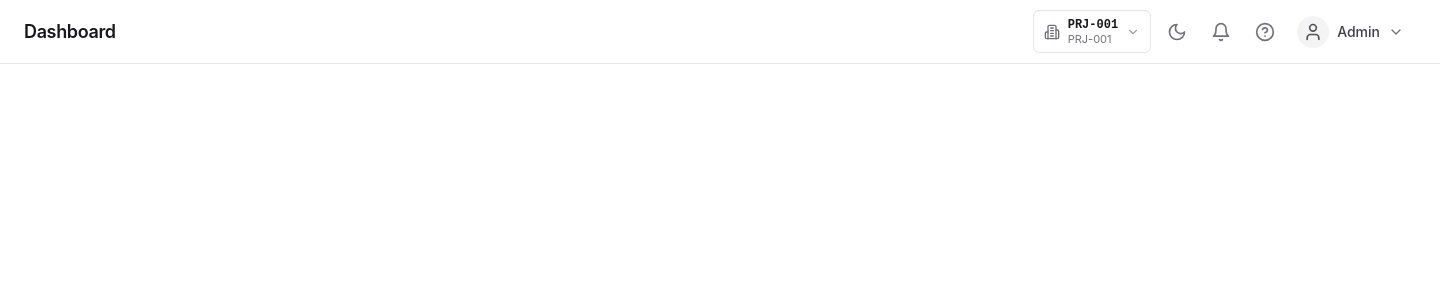
Test case: notification bell › shows an honest empty state
This screenshot has width=1440, height=287.
Click the button with test id "notifications-bell". click: coordinates (1221, 32)
box: [1203,14,1239,50]
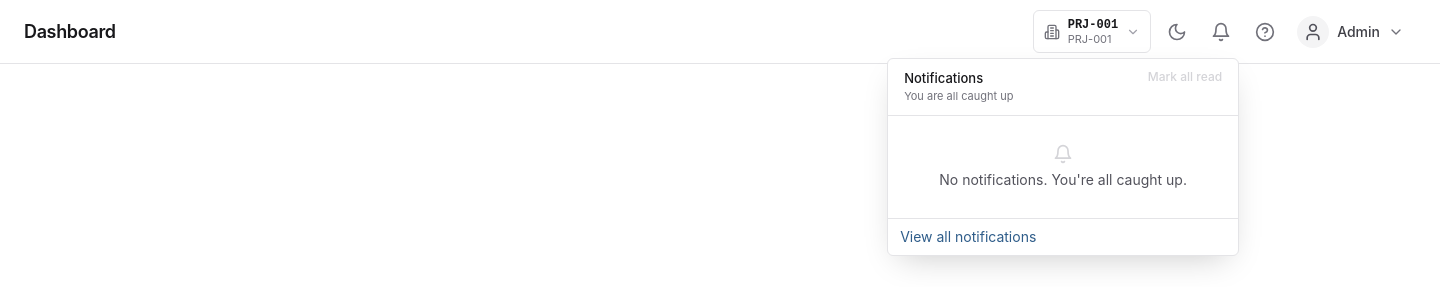
Expected: the element with test id "notifications-panel" shows "No notifications. You're all caught up.", [939,170,1187,188]
